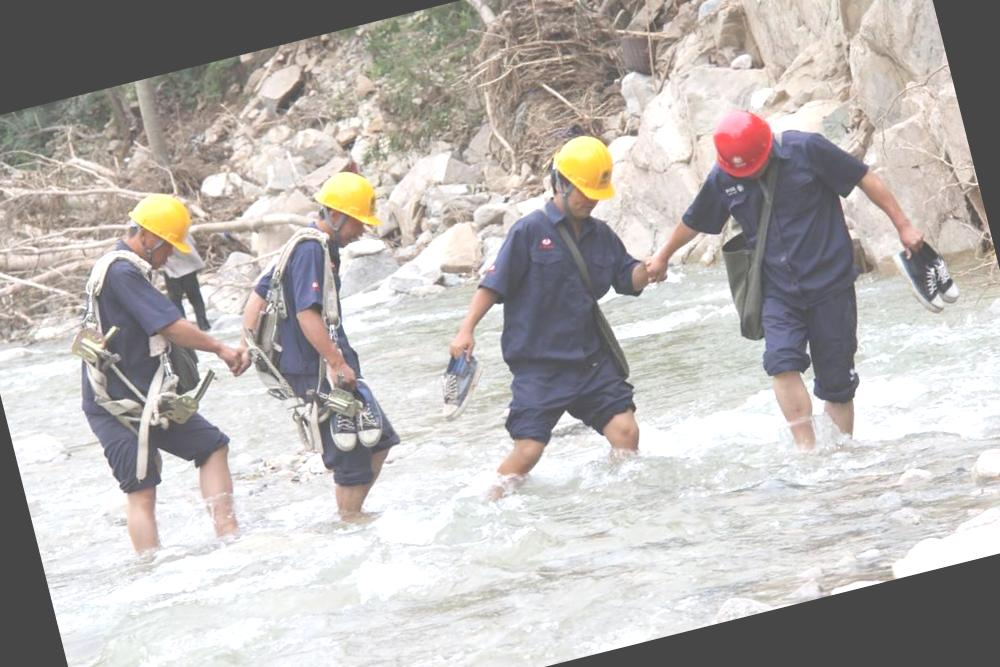helmet: (113, 179, 204, 268), (544, 126, 630, 213), (701, 99, 777, 190), (309, 158, 383, 238)
no_vest: (494, 195, 656, 378), (712, 146, 860, 322)
person: (13, 172, 313, 590), (408, 117, 706, 526), (184, 147, 462, 560), (674, 75, 934, 459)
